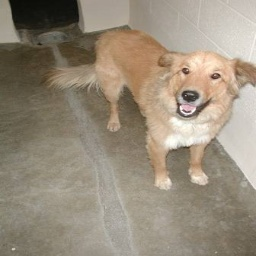dog: (50, 26, 241, 194)
